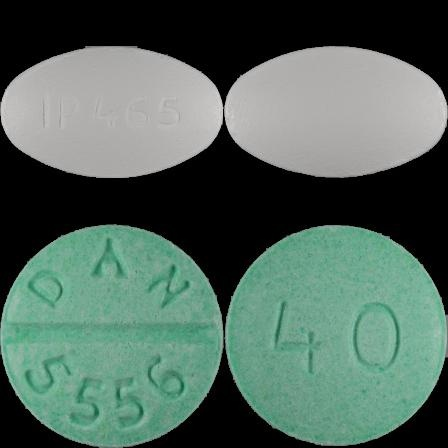43063-613: (0, 0, 224, 224)
